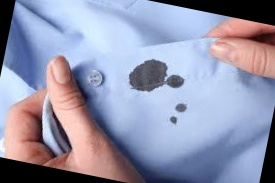wine: (122, 54, 187, 98), (166, 94, 192, 115), (163, 112, 183, 131)
